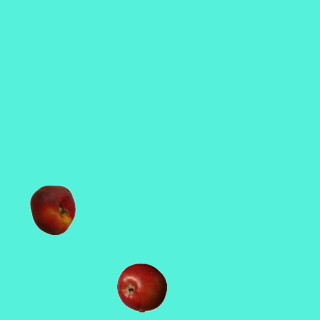Apple Braeburn: (116, 262, 166, 312)
Nectarine Flat: (27, 184, 77, 234)
